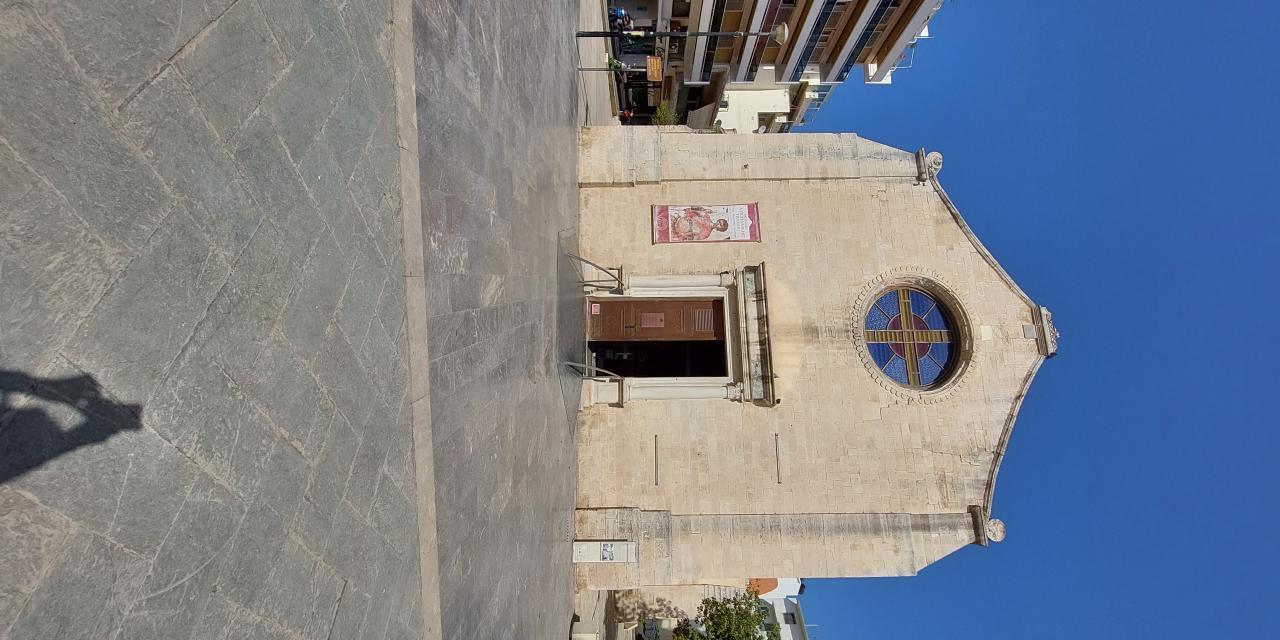Agia Aikaterini: (581, 116, 1059, 595)
